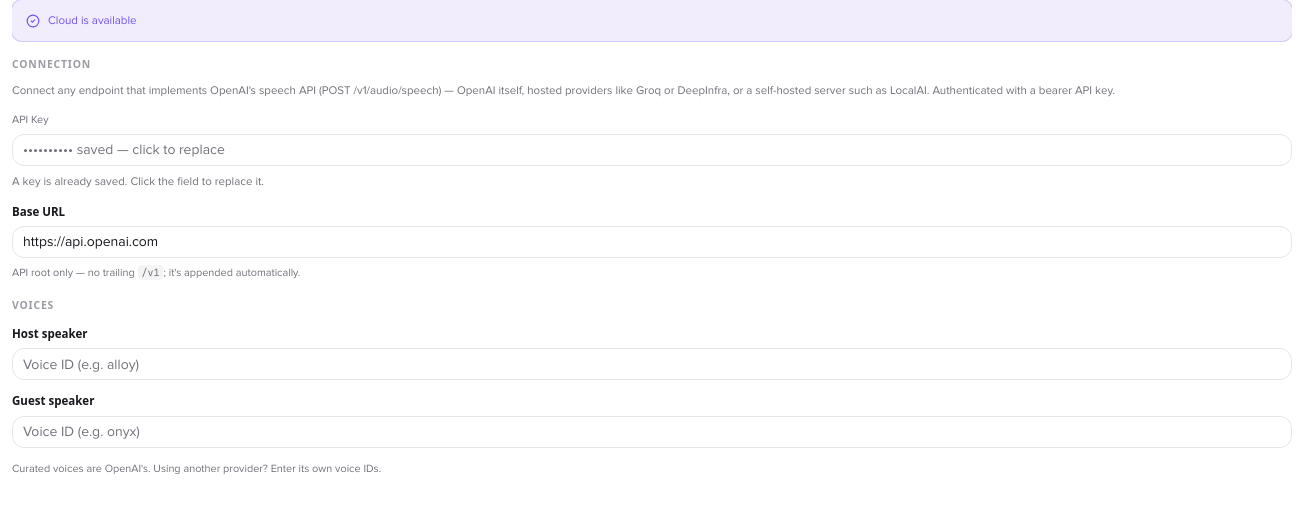
Test: CloudTtsForm — base URL scheme validation (#245) › rejects ftp://evil.example.com with an inline error and does not save
The width and height of the screenshot is (1304, 525).
Step 1. Type "ftp://evil.example.com" into the field labelled "Base URL" → (652, 242), box [12,226,1292,258]
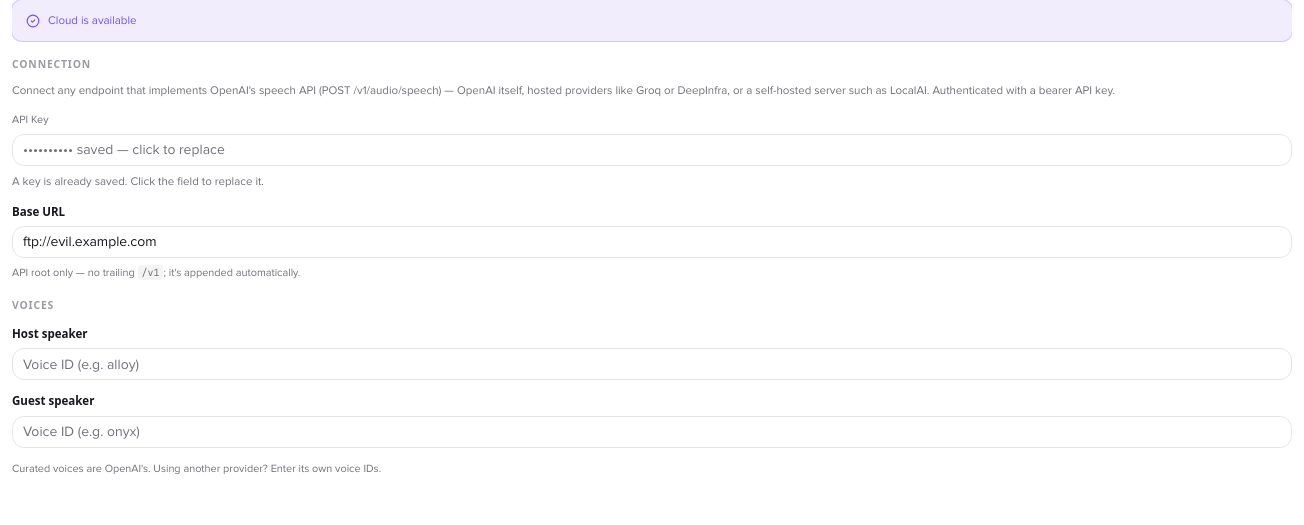
Step 2. Leave the field labelled "Base URL", box [12,226,1292,258]
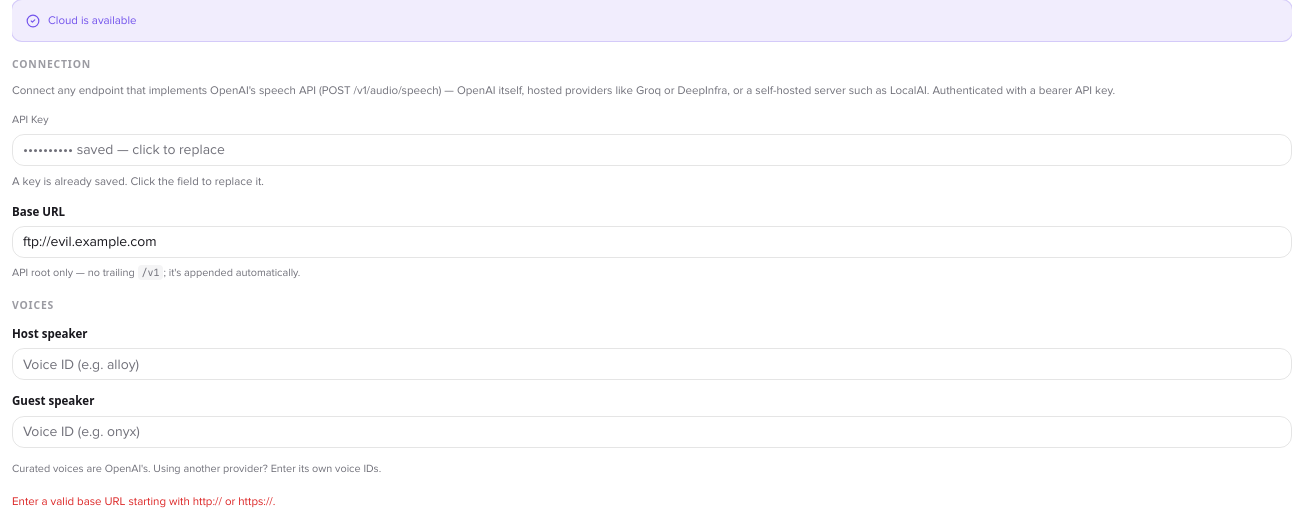
Now the message "Enter a valid base URL starting with http:// or https://." is shown, box [12,494,275,508]
